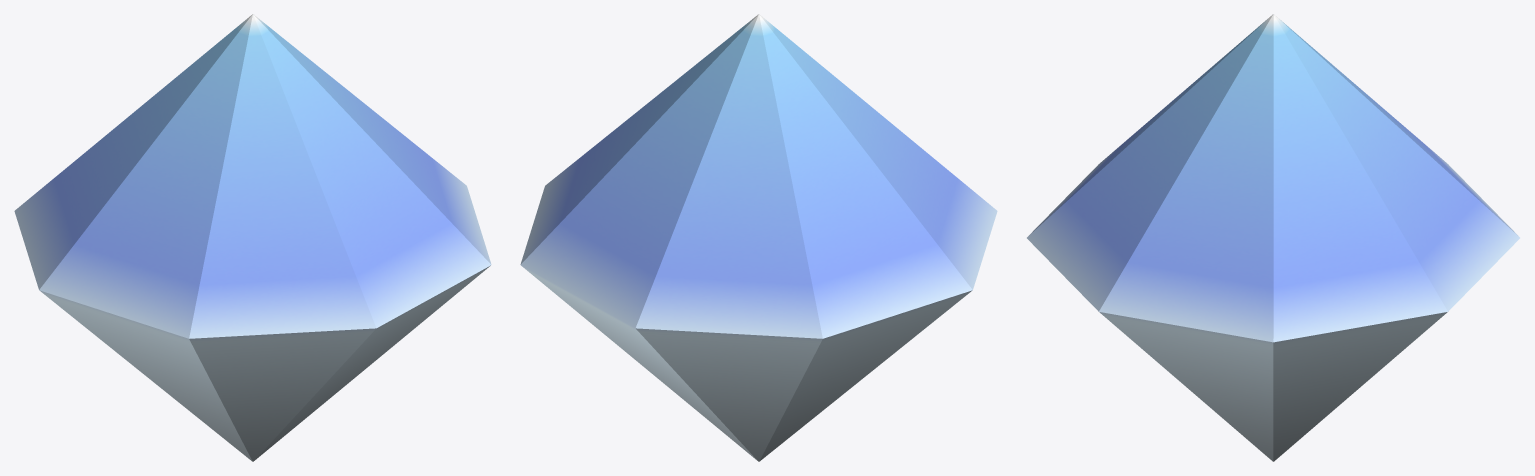
Rendered from sky.fbx.
3 views of the same model, side by side, from view 1: azimuth 30°, elevation 25°; view 2: azimuth 150°, elevation 25°; view 3: azimuth 270°, elevation 25° (orthographic).
Parts seen in each view (by area): view 1: Cylinder; view 2: Cylinder; view 3: Cylinder.
Part boxes in pixels (left/top/right/bottom): Cylinder: left=14, top=14, right=491, bottom=461; Cylinder: left=520, top=14, right=997, bottom=461; Cylinder: left=1027, top=14, right=1519, bottom=461.
Bounding box in the file's own units: 2 × 2 × 2.
Materials: 1 (1 with a texture image).
